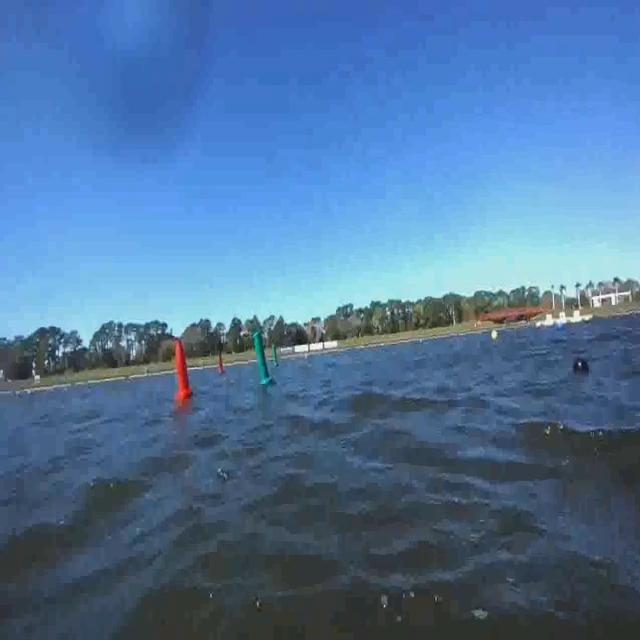black-buoy: (571, 356, 590, 375)
green-column-buoy: (253, 331, 275, 386), (273, 344, 278, 364)
red-column-buoy: (172, 340, 192, 400), (217, 352, 226, 374)
yellow-buoy: (490, 326, 500, 342)
